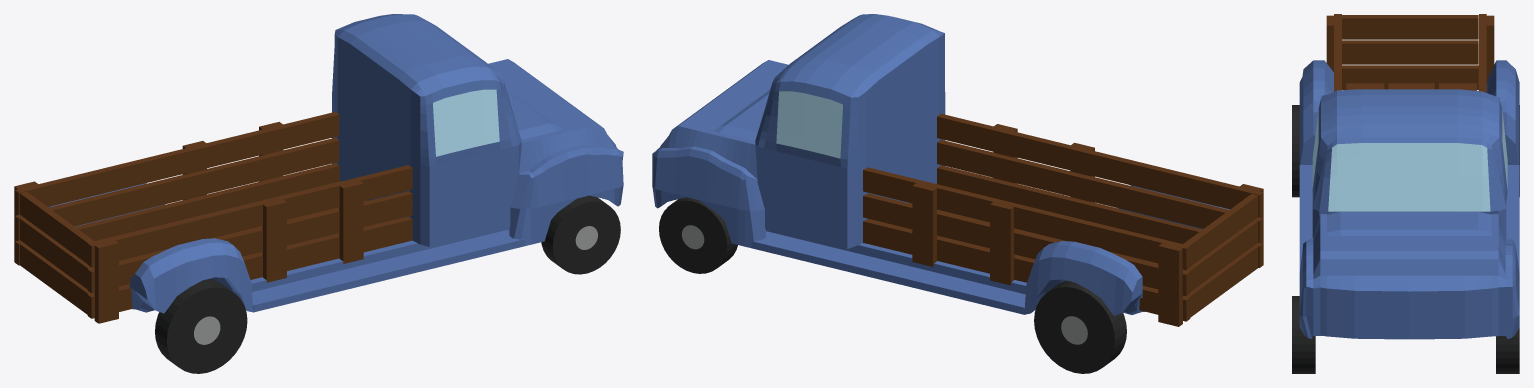
Rendered from Market.fbx.
3 views of the same model, side by side, from view 1: azimuth 30°, elevation 25°; view 2: azimuth 150°, elevation 25°; view 3: azimuth 270°, elevation 25° (orthographic).
Parts seen in each view (by area): view 1: Cube.002, Cube.001, Cube.009, Cube, Cube.008, Cube.007, Cylinder.001, Cube.003, Cube.005, Cylinder, Cube.006, Cube.004 (+6 smaller); view 2: Cube.002, Cube.001, Cube.007, Cube, Cube.006, Cube.009, Cylinder.003, Cube.003, Cube.004, Cube.008, Cylinder.002, Cube.005 (+6 smaller); view 3: Cube.001, Cube.002, Cube.003, Cube.011, Cube.012, Cube.010, Cube, Cylinder, Cylinder.002, Cylinder.001, Cube.009, Cube.007 (+5 smaller).
Part boxes in pixels (x1,y1,x2,y2): Cube.002: [332, 14, 521, 246]; Cube.001: [488, 59, 623, 245]; Cube.009: [14, 111, 339, 213]; Cube: [250, 228, 525, 312]; Cube.008: [14, 137, 339, 239]; Cube.007: [87, 165, 412, 267]; Cylinder.001: [155, 279, 247, 373]; Cube.003: [48, 183, 253, 313]; Cube.005: [15, 163, 339, 265]; Cylinder: [541, 195, 620, 274]; Cube.006: [87, 191, 412, 293]; Cube.004: [87, 216, 412, 318]; Cube.002: [755, 14, 945, 248]; Cube.001: [652, 60, 788, 247]; Cube.007: [937, 113, 1263, 216]; Cube: [751, 229, 1026, 314]; Cube.006: [937, 139, 1263, 242]; Cube.009: [863, 167, 1190, 269]; Cylinder.003: [1034, 280, 1126, 373]; Cube.003: [1024, 185, 1229, 315]; Cube.004: [937, 165, 1263, 267]; Cube.008: [863, 193, 1190, 295]; Cylinder.002: [659, 197, 737, 273]; Cube.005: [863, 219, 1190, 321]; Cube.001: [1299, 212, 1519, 339]; Cube.002: [1312, 89, 1507, 238]; Cube.003: [1299, 60, 1519, 164]; Cube.011: [1342, 40, 1478, 64]; Cube.012: [1342, 15, 1478, 39]; Cube.010: [1342, 65, 1478, 89]; Cube: [1299, 165, 1519, 272]; Cylinder: [1292, 296, 1315, 373]; Cylinder.002: [1496, 328, 1519, 373]; Cylinder.001: [1292, 105, 1299, 197]; Cube.009: [1479, 14, 1486, 92]; Cube.007: [1334, 14, 1341, 91].
Size of the model in its own units: 1549 by 623 by 584.
